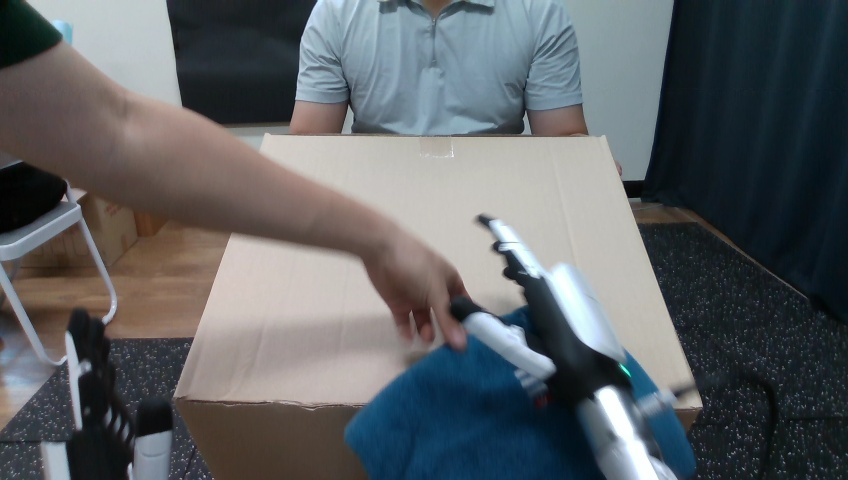left robot hand: (452, 214, 676, 479)
